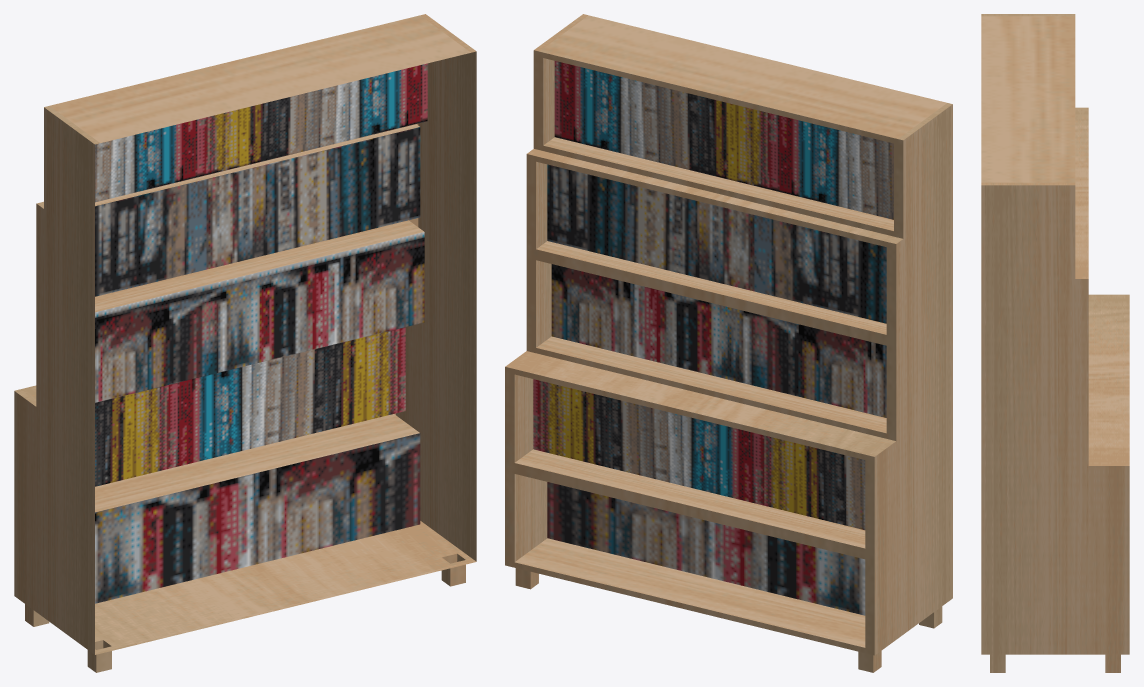
Rendered from Bedroom_Bookshelf.fbx.
3 renders of one model, left to right at view 1: azimuth 30°, elevation 25°; view 2: azimuth 150°, elevation 25°; view 3: azimuth 270°, elevation 25°, orthographic. The views are drawn at different scales.
Visible parts, largest first — view 1: Cube.005; view 2: Cube.005; view 3: Cube.005.
Boxes of the visible parts, left/top/right/bottom form: Cube.005: left=14, top=14, right=476, bottom=672; Cube.005: left=505, top=14, right=952, bottom=672; Cube.005: left=981, top=14, right=1129, bottom=672.
Bounding box in the file's own units: 157 × 209 × 57.35.
